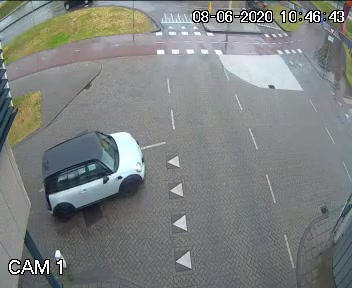car: (32, 117, 155, 227)
